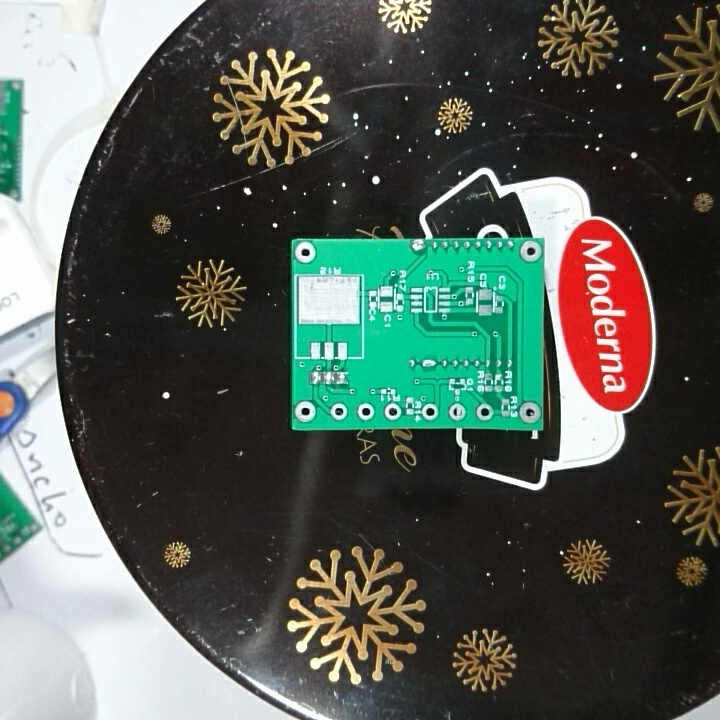F: (292, 240, 319, 266), (293, 398, 318, 426), (518, 239, 542, 265), (517, 400, 542, 424), (382, 400, 403, 423), (328, 401, 349, 423), (355, 401, 376, 423), (419, 401, 439, 423), (474, 403, 494, 423), (448, 402, 468, 420)
P: (406, 238, 430, 255), (418, 355, 439, 373)
